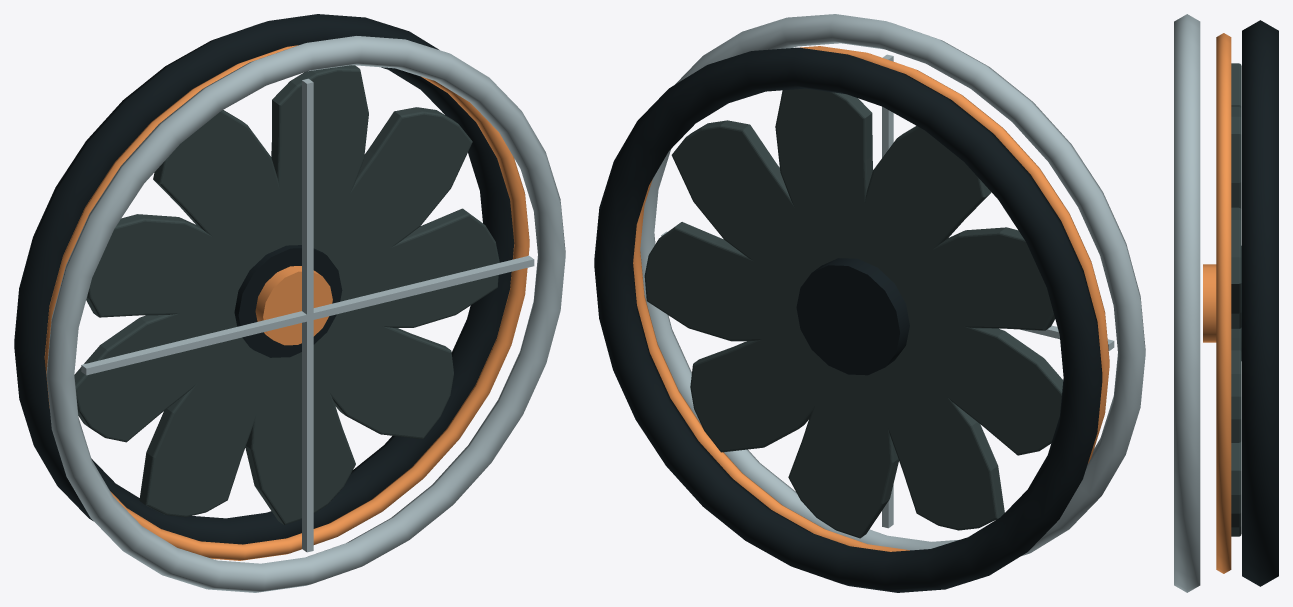
The model's file is gpu-fan-industrial.glb.
3 views of the same model, side by side, from view 1: azimuth 30°, elevation 25°; view 2: azimuth 150°, elevation 25°; view 3: azimuth 270°, elevation 25° (orthographic). The views are drawn at different scales.
Parts seen in each view (by area): view 1: gpu-fan-rotor, gpu-fan-industrial; view 2: gpu-fan-rotor, gpu-fan-industrial; view 3: gpu-fan-industrial, gpu-fan-rotor.
Part boxes in pixels (x1,y1,x2,y2): gpu-fan-rotor: (74,65,499,524); gpu-fan-industrial: (14,14,565,592); gpu-fan-rotor: (644,88,1063,538); gpu-fan-industrial: (594,14,1145,592); gpu-fan-industrial: (1174,14,1278,592); gpu-fan-rotor: (1203,63,1241,536).
Size of the model in its own units: 0.95 by 0.95 by 0.172.
